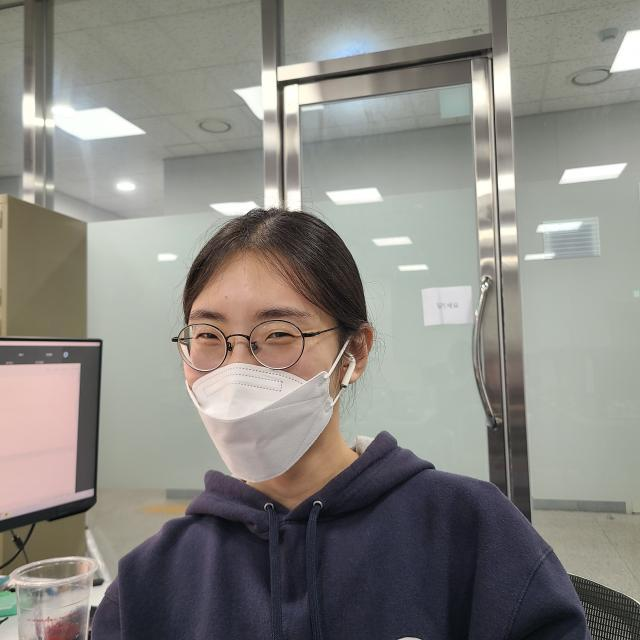earphone: (332, 332, 368, 398)
